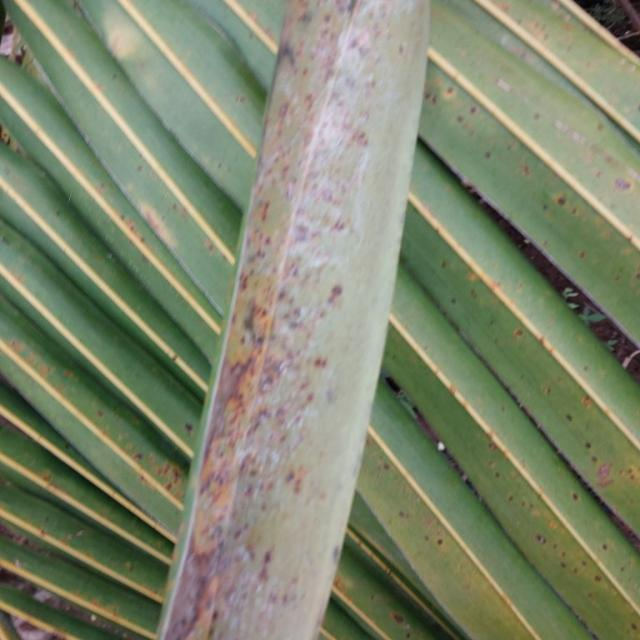gray leaf spot: (160, 1, 428, 640)
